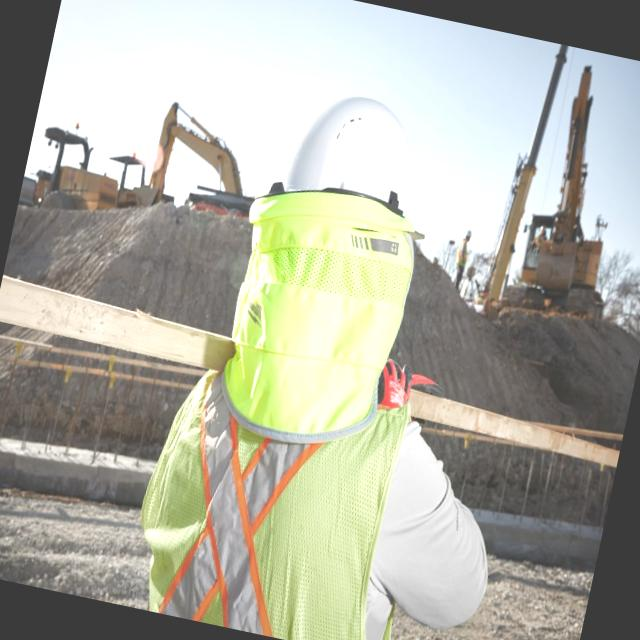helmet: (236, 68, 455, 284), (464, 228, 473, 238)
vest: (128, 321, 411, 640), (451, 238, 472, 276)
